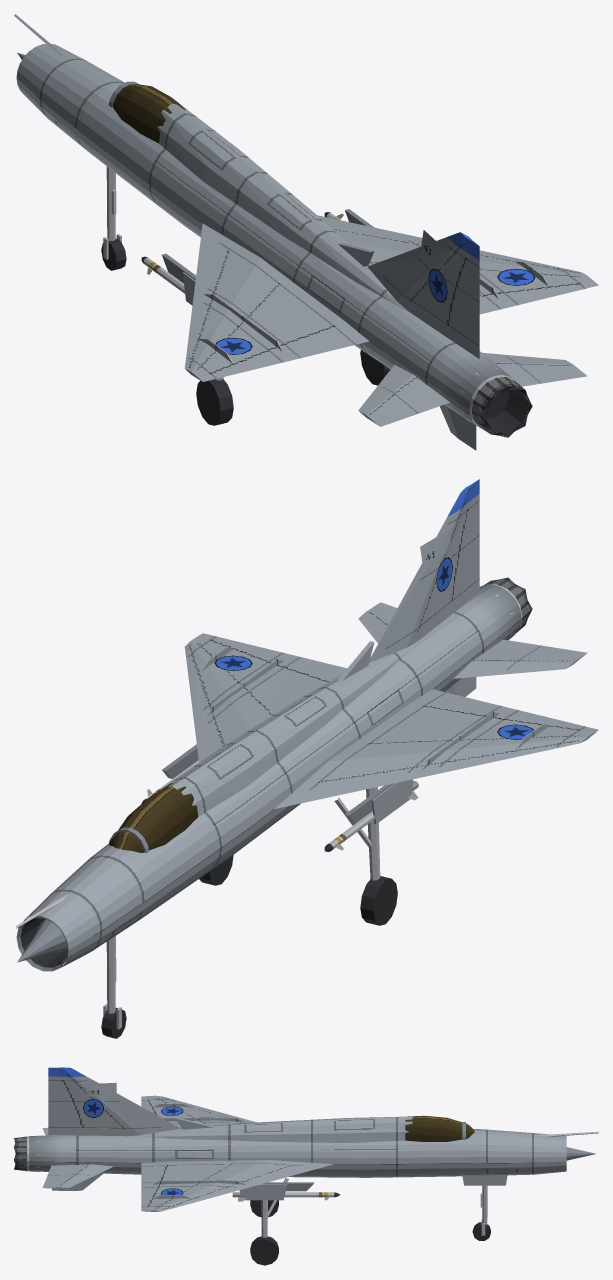
The model's file is mig21.glb.
3 views of the same model, one above another, from view 1: azimuth 30°, elevation 25°; view 2: azimuth 150°, elevation 25°; view 3: azimuth 270°, elevation 25° (orthographic). The views are drawn at different scales.
Visible parts, largest first — view 1: airframe, stab_l, canopy, stab_r, rudder, gear_main_l, gear_nose, flap_l, aileron_r, aileron_l, gear_main_r; view 2: airframe, canopy, stab_l, gear_main_l, rudder, gear_nose, door_main_l, flap_l, flap_r, stab_r; view 3: airframe, canopy, rudder, stab_r, gear_main_r, door_main_r, gear_nose, door_nose, msl_1, flap_r, gear_main_l.
Part boxes in pixels (x1,y1,x2,y2): airframe: (14,14,598,450); stab_l: (358,364,449,426); canopy: (108,81,185,143); stab_r: (482,352,587,386); rudder: (447,257,479,344); gear_main_l: (196,377,233,425); gear_nose: (101,166,126,270); flap_l: (284,325,356,357); aileron_r: (502,283,583,305); aileron_l: (212,349,284,378); gear_main_r: (360,350,390,385); airframe: (15,479,598,971); canopy: (108,783,198,853); stab_l: (453,639,587,678); gear_main_l: (334,787,397,925); rudder: (451,499,479,599); gear_nose: (101,936,126,1038); door_main_l: (371,779,413,824); flap_l: (423,692,500,716); flap_r: (284,657,346,682); stab_r: (358,602,397,643); airframe: (14,1067,598,1211); canopy: (405,1115,474,1141); rudder: (48,1080,83,1126); stab_r: (42,1164,113,1188); gear_main_r: (250,1178,288,1265); door_main_r: (239,1184,287,1200); gear_nose: (472,1185,490,1240); door_nose: (462,1175,507,1185); msl_1: (232,1192,340,1201); flap_r: (141,1165,167,1182); gear_main_l: (250,1200,278,1217).
Size of the model in its own units: 7.14 by 5 by 15.4.
6 materials, 6 textured.
